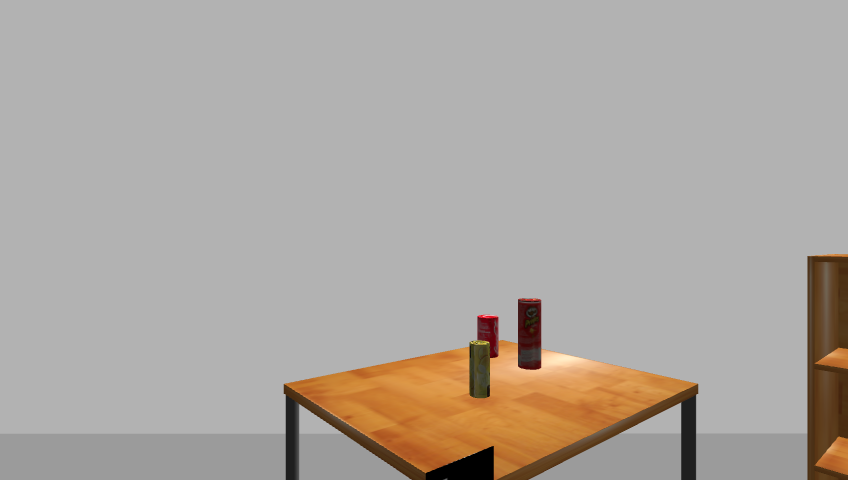aruco marker: (421, 446, 499, 480)
biscuits pack: (469, 340, 491, 399)
bookshelf: (802, 254, 848, 480)
coke can: (476, 314, 501, 360)
dinner table: (275, 341, 708, 480)
pringles can: (515, 297, 544, 371)
